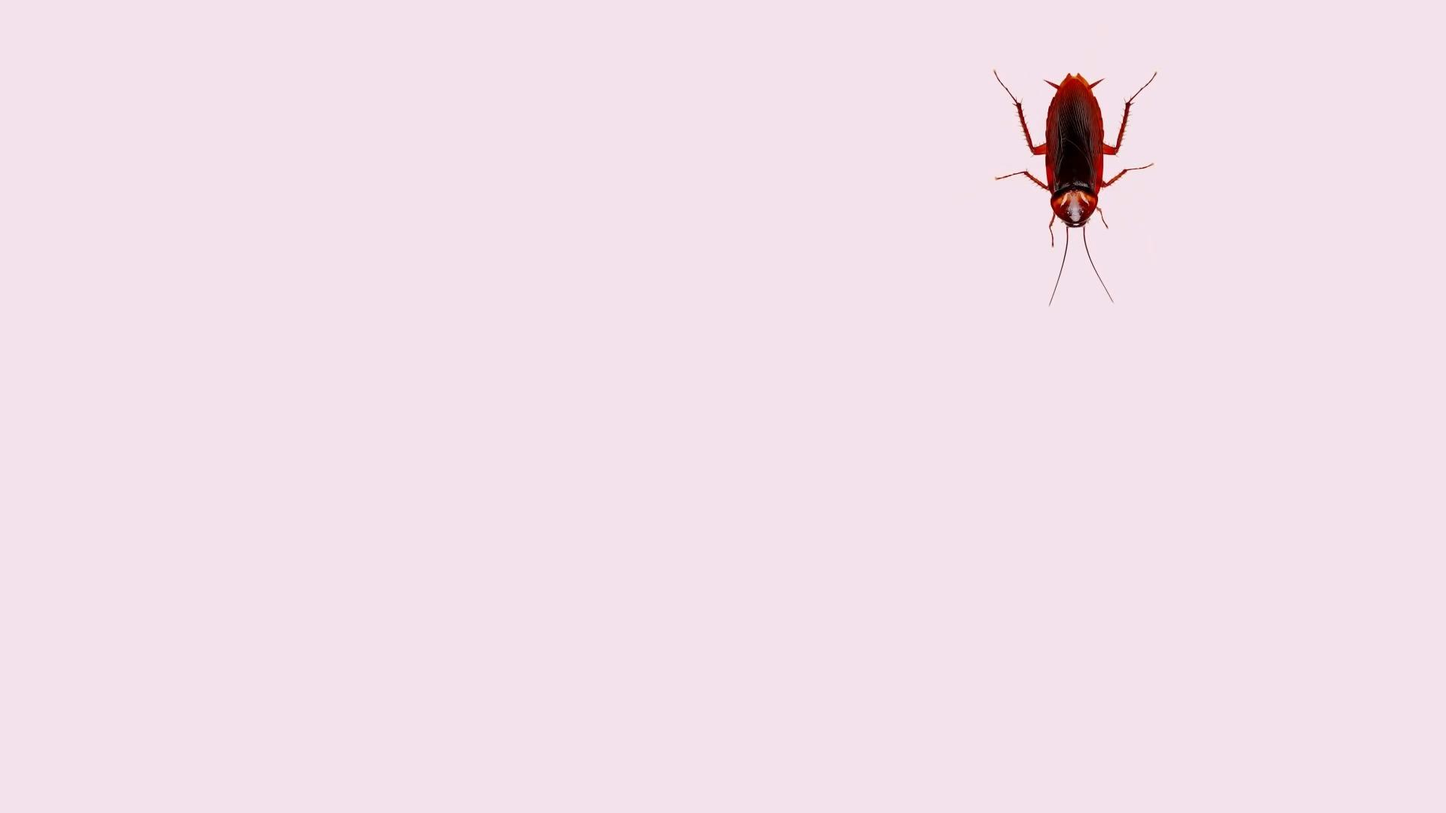cockroach: (972, 59, 1138, 291)
